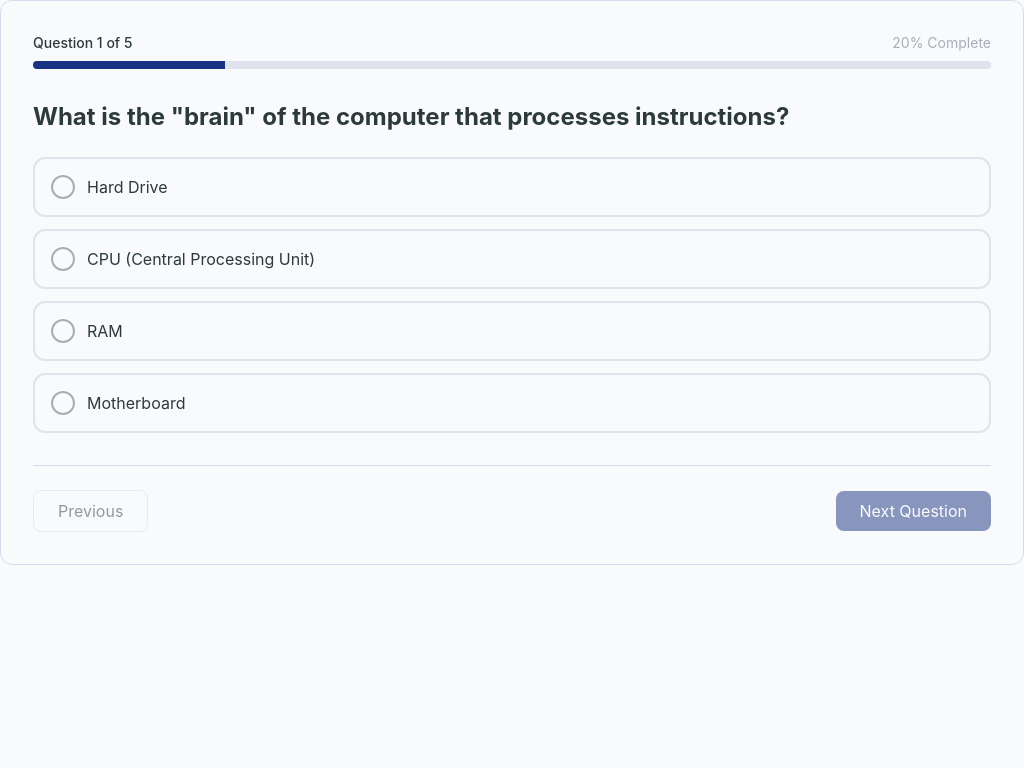
QuizComponent › navigation › should navigate to next question
This screenshot has width=1024, height=768.
Click the button "CPU (Central Processing Unit)" at point(201, 259), box [33,229,991,289]
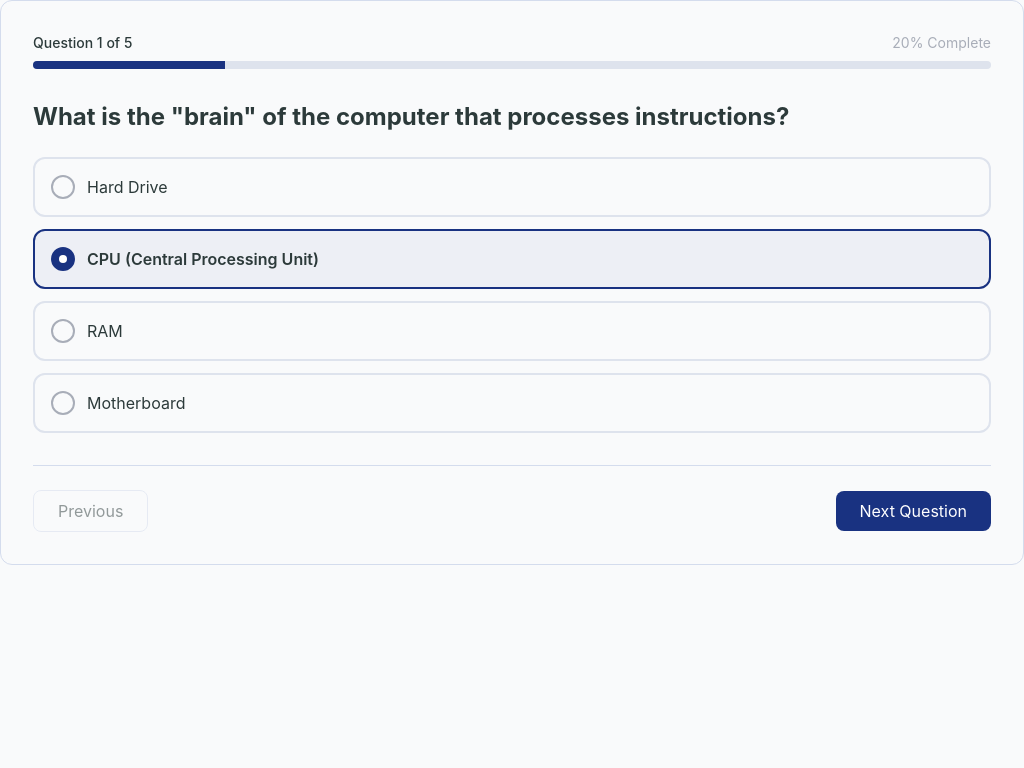
Click the button "Next Question" at point(913, 511), box [836,491,991,531]
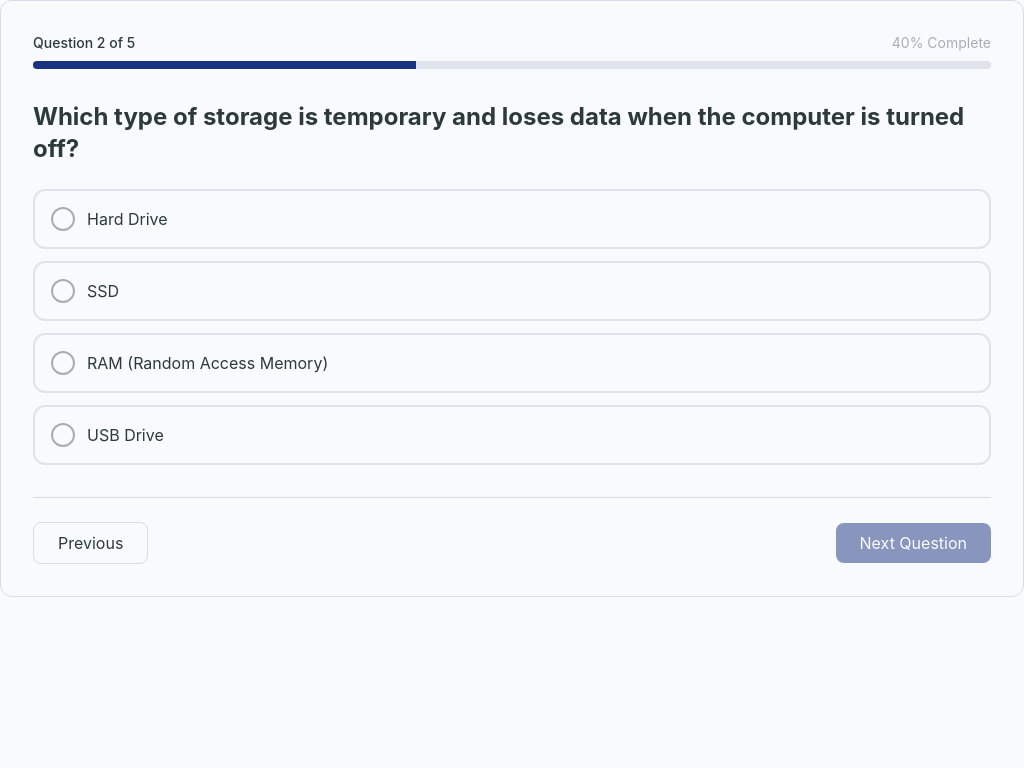
Result: the heading "Which type of storage is temporary" is shown at [33,102,964,163]
